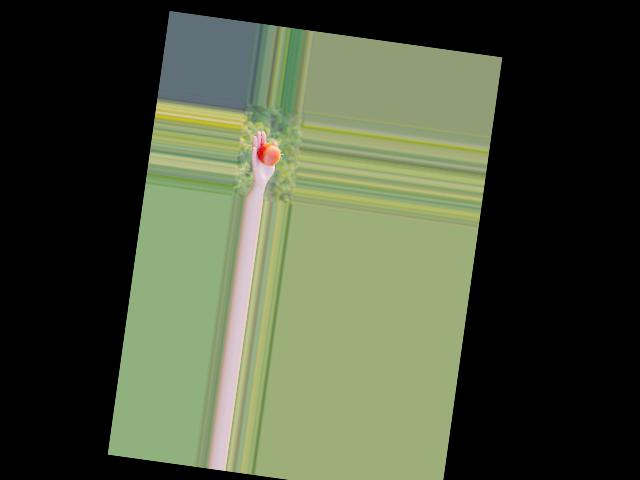tomato: (255, 142, 281, 166)
